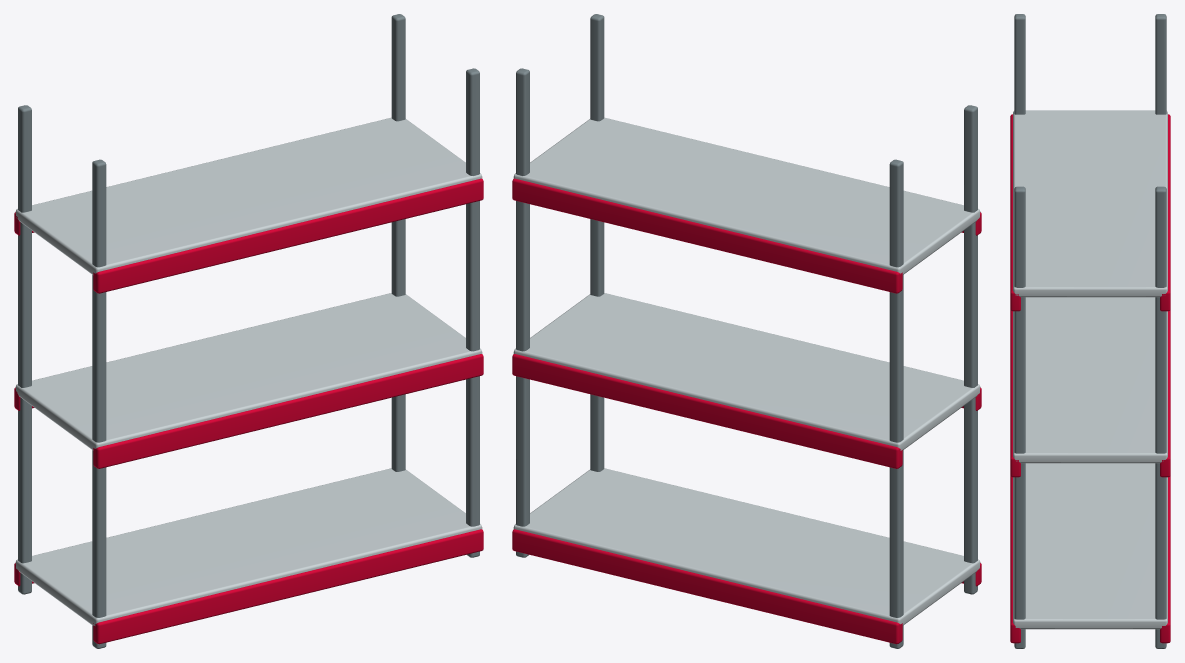
Rendered from Warehouse_Rack_3m.fbx.
3 views of the same model, side by side, from view 1: azimuth 30°, elevation 25°; view 2: azimuth 150°, elevation 25°; view 3: azimuth 270°, elevation 25° (orthographic). The views are drawn at different scales.
Parts seen in each view (by area): view 1: Warehouse_Rack_3m_Steel, Warehouse_Rack_3m_Red, Warehouse_Rack_3m_SteelDark; view 2: Warehouse_Rack_3m_Steel, Warehouse_Rack_3m_Red, Warehouse_Rack_3m_SteelDark; view 3: Warehouse_Rack_3m_Steel, Warehouse_Rack_3m_SteelDark, Warehouse_Rack_3m_Red.
Part boxes in pixels (x1=…): Warehouse_Rack_3m_Steel: x1=15, y1=117, x2=482, y2=625; Warehouse_Rack_3m_Red: x1=14, y1=178, x2=483, y2=644; Warehouse_Rack_3m_SteelDark: x1=18, y1=14, x2=479, y2=648; Warehouse_Rack_3m_Steel: x1=513, y1=117, x2=980, y2=625; Warehouse_Rack_3m_Red: x1=512, y1=178, x2=981, y2=644; Warehouse_Rack_3m_SteelDark: x1=516, y1=14, x2=977, y2=648; Warehouse_Rack_3m_Steel: x1=1013, y1=110, x2=1167, y2=629; Warehouse_Rack_3m_SteelDark: x1=1014, y1=14, x2=1166, y2=648; Warehouse_Rack_3m_Red: x1=1010, y1=114, x2=1170, y2=643.
Bounding box in the file's own units: 300 × 360 × 114.
